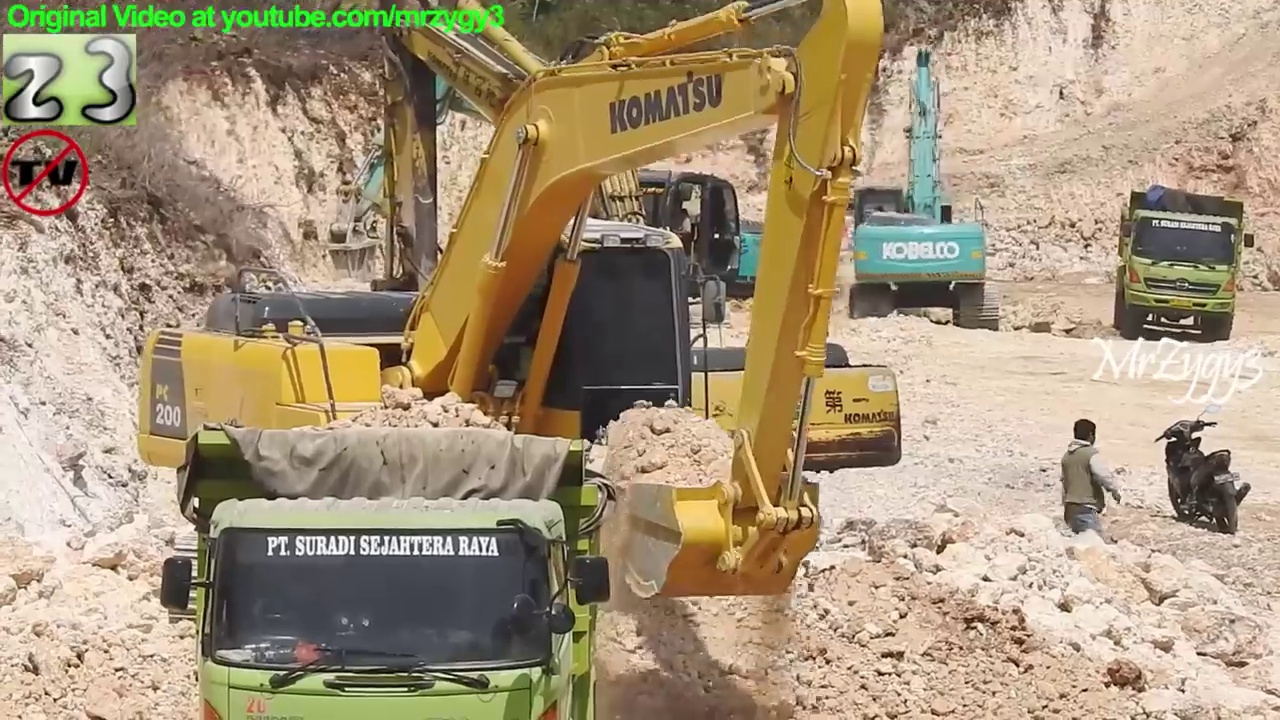excavator: (124, 1, 895, 637), (346, 1, 912, 540), (319, 19, 810, 340), (843, 37, 1010, 333)
truck: (157, 419, 620, 720), (1110, 181, 1260, 348)
